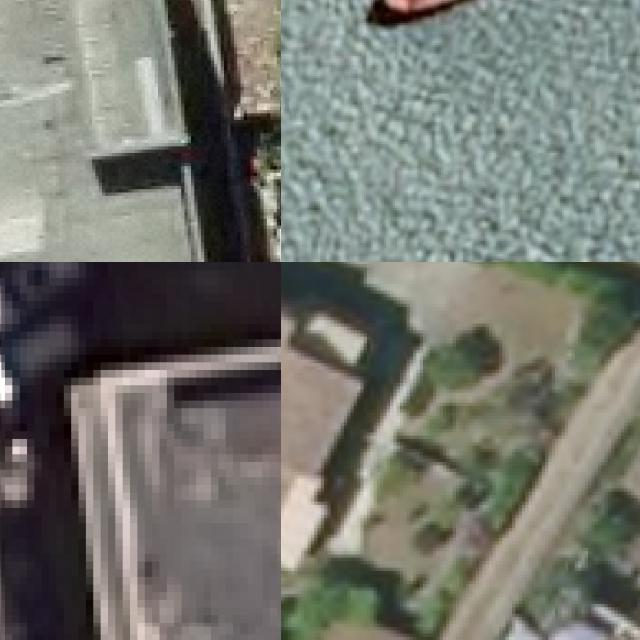trees: (292, 562, 412, 640), (408, 328, 503, 415), (563, 279, 640, 379)
